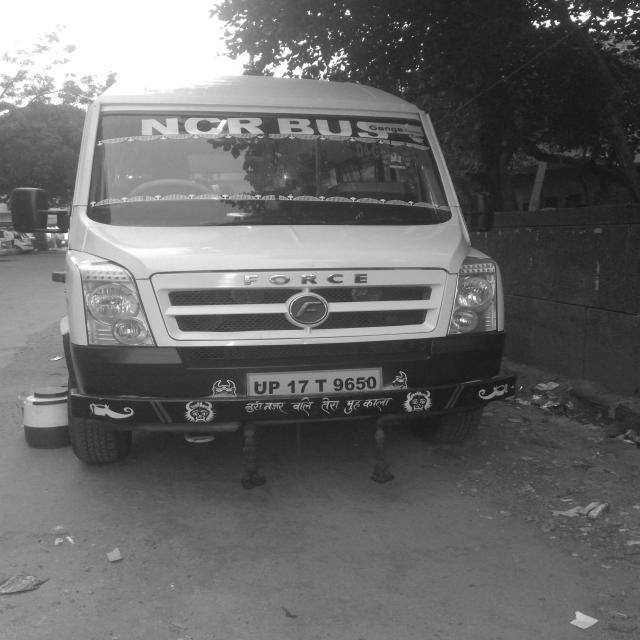Traveller: (12, 78, 515, 489)
